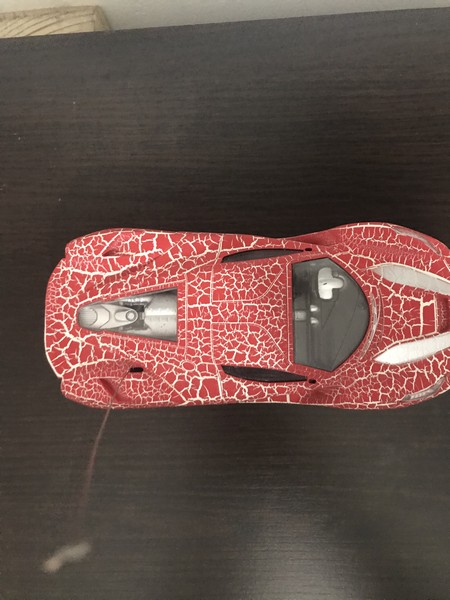RC: (41, 220, 449, 412)
